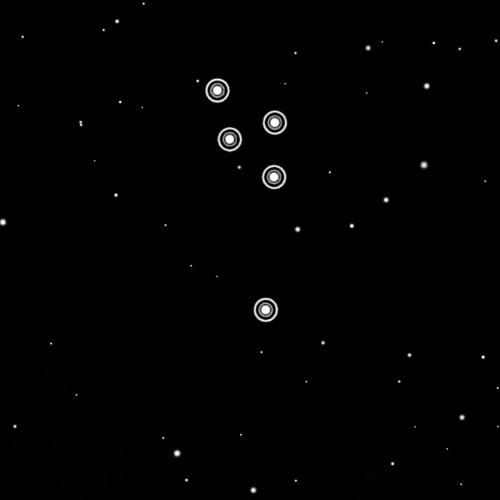delphinus: (193, 71, 288, 325)
